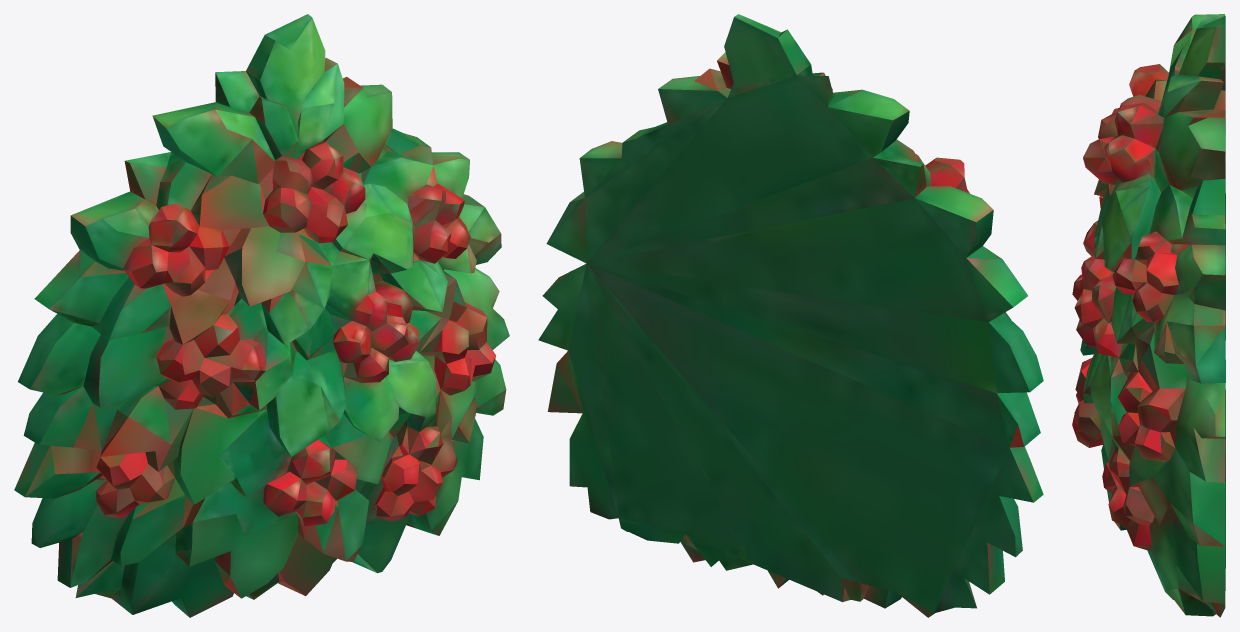
File: berry-bush.glb
3 renders of one model, left to right at view 1: azimuth 30°, elevation 25°; view 2: azimuth 150°, elevation 25°; view 3: azimuth 270°, elevation 25°, orthographic. The views are drawn at different scales.
Visible parts, largest first — view 1: output_unwrapped; view 2: output_unwrapped; view 3: output_unwrapped.
Boxes of the visible parts, <box> form: output_unwrapped: <box>14,14,509,617</box>; output_unwrapped: <box>538,14,1043,617</box>; output_unwrapped: <box>1072,14,1225,617</box>.
Size of the model in its own units: 1.75 by 1.9 by 0.479.
1 material, 1 textured.
